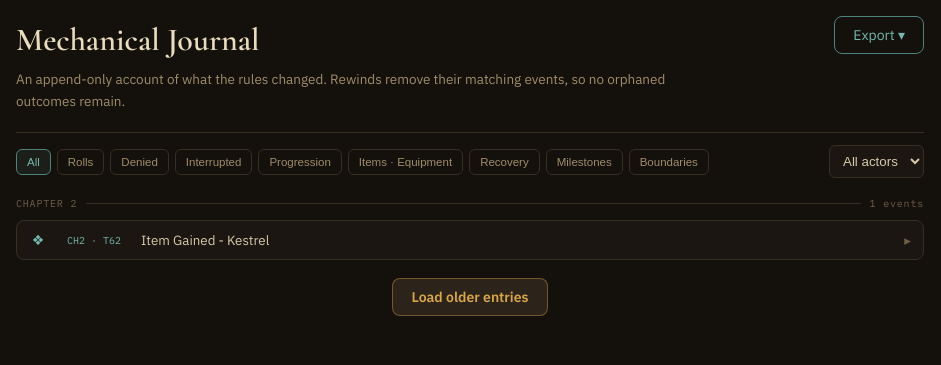
Test: Mechanical Journal › loads older cursor pages and keeps their resolved chapter membership
Expected: the text "CHAPTER 2" is shown, [16,196,77,211]
Expected: the text "CHAPTER 1" is not shown
Click the button with test id "journal-load-more".
click(470, 297)  # box [392,278,548,316]
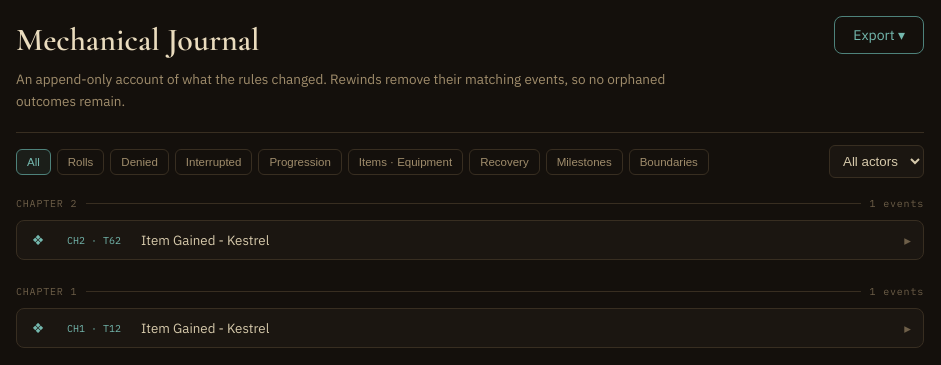
Expected: the text "CHAPTER 2" is shown, [16,196,77,211]
Result: the text "CHAPTER 1" is shown at [16,284,77,299]
Result: the button with test id "journal-load-more" is gone
